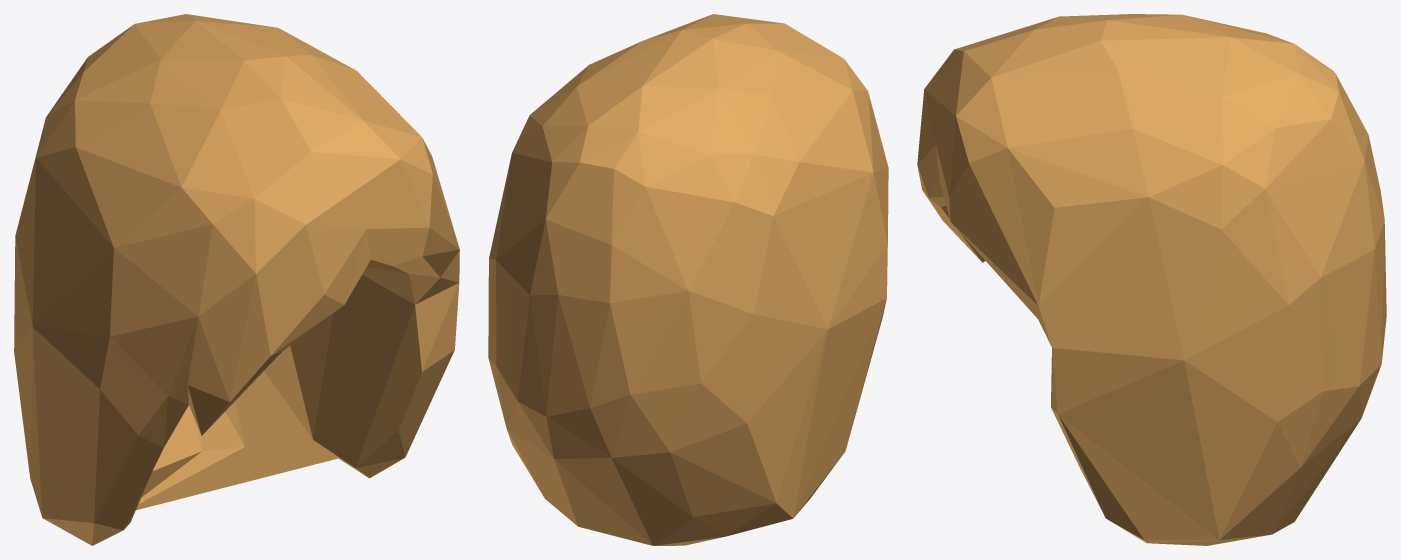
Rendered from Beachgoer_Hair_B.fbx.
The picture shows the model from 3 angles, left to right: view 1: azimuth 30°, elevation 25°; view 2: azimuth 150°, elevation 25°; view 3: azimuth 270°, elevation 25°; orthographic projection. The views are drawn at different scales.
Parts seen in each view (by area): view 1: Beachgoer_F_Hair_B; view 2: Beachgoer_F_Hair_B; view 3: Beachgoer_F_Hair_B.
Boxes of the visible parts, bbox=[...] form: Beachgoer_F_Hair_B: bbox=[14, 14, 459, 545]; Beachgoer_F_Hair_B: bbox=[488, 14, 888, 545]; Beachgoer_F_Hair_B: bbox=[917, 14, 1386, 545].
Bounding box in the file's own units: 20.81 × 27.4 × 24.02.
